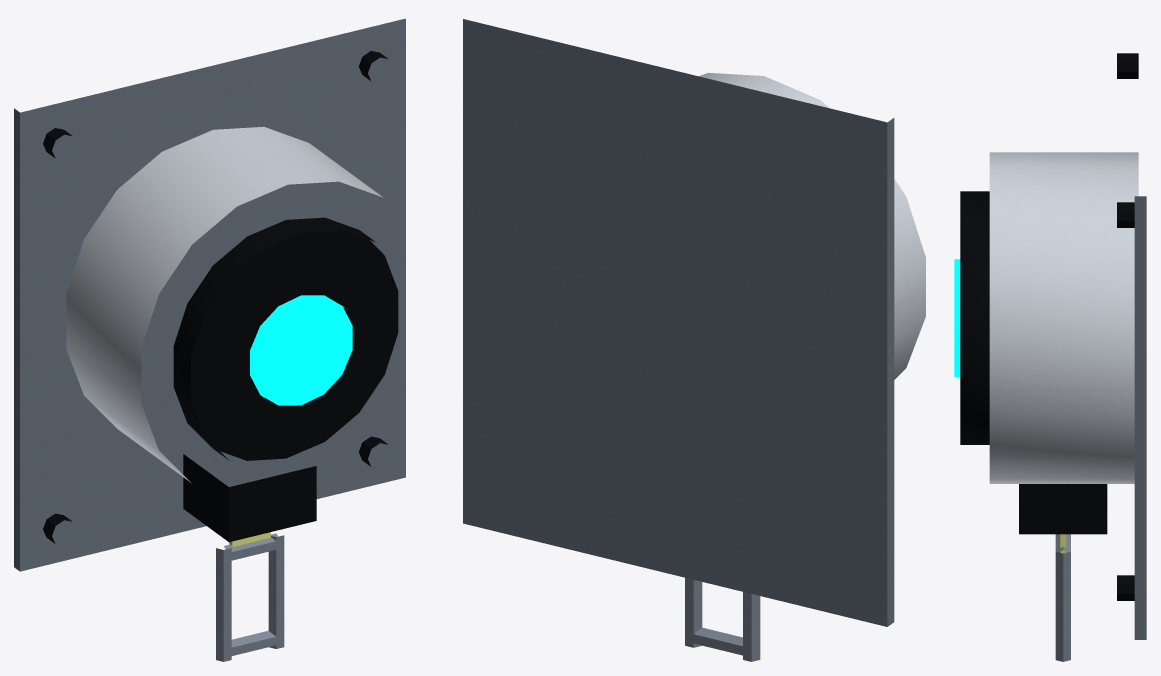
Rendered from tt_climb_auto_belay.glb.
3 views of the same model, side by side, from view 1: azimuth 30°, elevation 25°; view 2: azimuth 150°, elevation 25°; view 3: azimuth 270°, elevation 25° (orthographic). The views are drawn at different scales.
Parts seen in each view (by area): view 1: Mount_Plate, Housing_Cap, Housing, Brand_Ring_LED, Guide_Throat, Carabiner_Hardware, Mount_Bolts_Hardware; view 2: Mount_Plate, Housing, Carabiner_Hardware; view 3: Housing, Housing_Cap, Mount_Plate, Guide_Throat, Carabiner_Hardware, Mount_Bolts_Hardware, Brand_Ring_LED.
Boxes of the visible parts, box(x1,y1,x2,y2) form: Mount_Plate: box(14, 18, 405, 571); Housing_Cap: box(173, 217, 398, 460); Housing: box(66, 126, 383, 482); Brand_Ring_LED: box(250, 295, 352, 405); Guide_Throat: box(183, 454, 316, 542); Carabiner_Hardware: box(216, 533, 284, 661); Mount_Bolts_Hardware: box(43, 51, 387, 543); Mount_Plate: box(463, 19, 894, 626); Housing: box(699, 72, 925, 379); Carabiner_Hardware: box(685, 577, 760, 661); Housing: box(989, 152, 1138, 483); Housing_Cap: box(960, 191, 989, 444); Mount_Plate: box(1134, 196, 1146, 639); Guide_Throat: box(1019, 484, 1107, 534); Carabiner_Hardware: box(1055, 534, 1070, 661); Mount_Bolts_Hardware: box(1117, 53, 1138, 600); Brand_Ring_LED: box(954, 259, 960, 376).
Size of what is drawn, in the model's own units: 0.44 by 0.609 by 0.196.
Materials: 6 (4 with a texture image).
